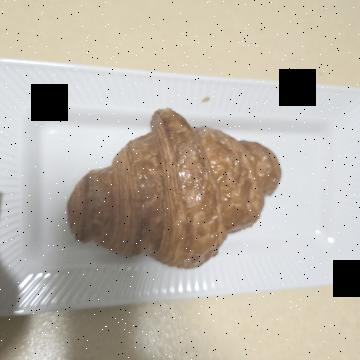croissant: (111, 69, 287, 299)
